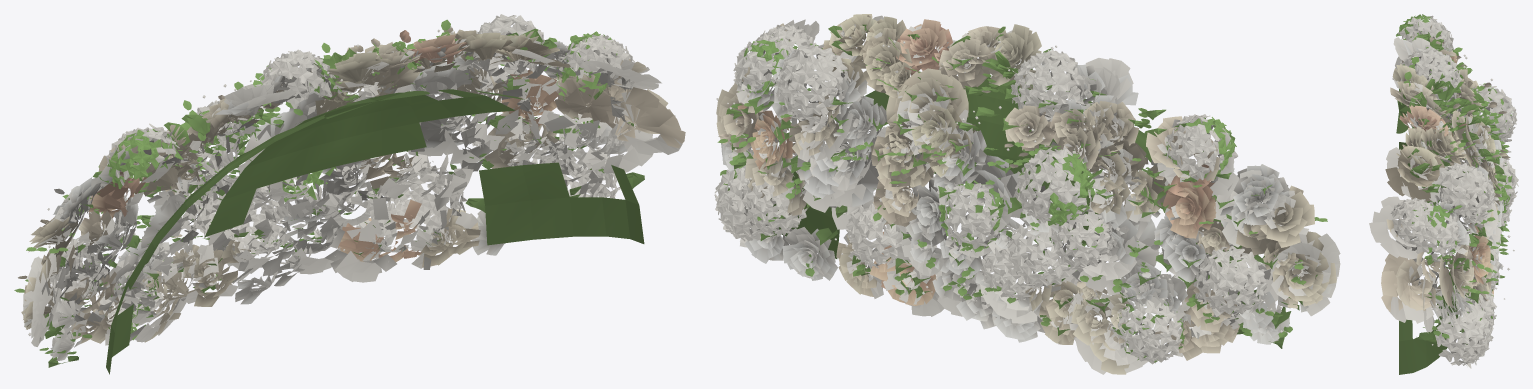
Rendered from vr27n_D_bank_bright_v18A.glb.
3 renders of one model, left to right at view 1: azimuth 30°, elevation 25°; view 2: azimuth 150°, elevation 25°; view 3: azimuth 270°, elevation 25°, orthographic. The views are drawn at different scales.
Parts seen in each view (by area): view 1: petals; view 2: petals; view 3: petals.
Part boxes in pixels (x1,y1,x2,y2): petals: (14, 14, 685, 374); petals: (714, 14, 1340, 374); petals: (1369, 14, 1518, 374).
Size of the model in its own units: 0.0235 by 0.0101 by 0.00602.
